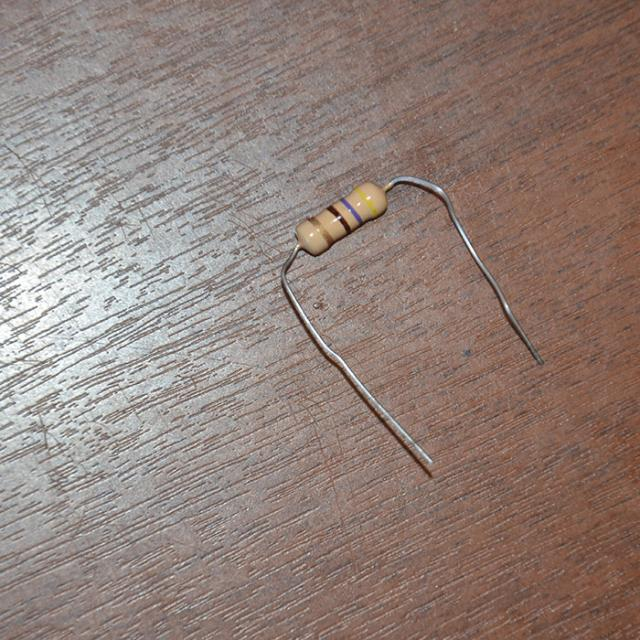brown: (326, 203, 351, 231)
gold: (307, 218, 334, 242)
resistor: (267, 158, 410, 282)
violet: (340, 198, 363, 226)
yellow: (357, 187, 377, 215)
